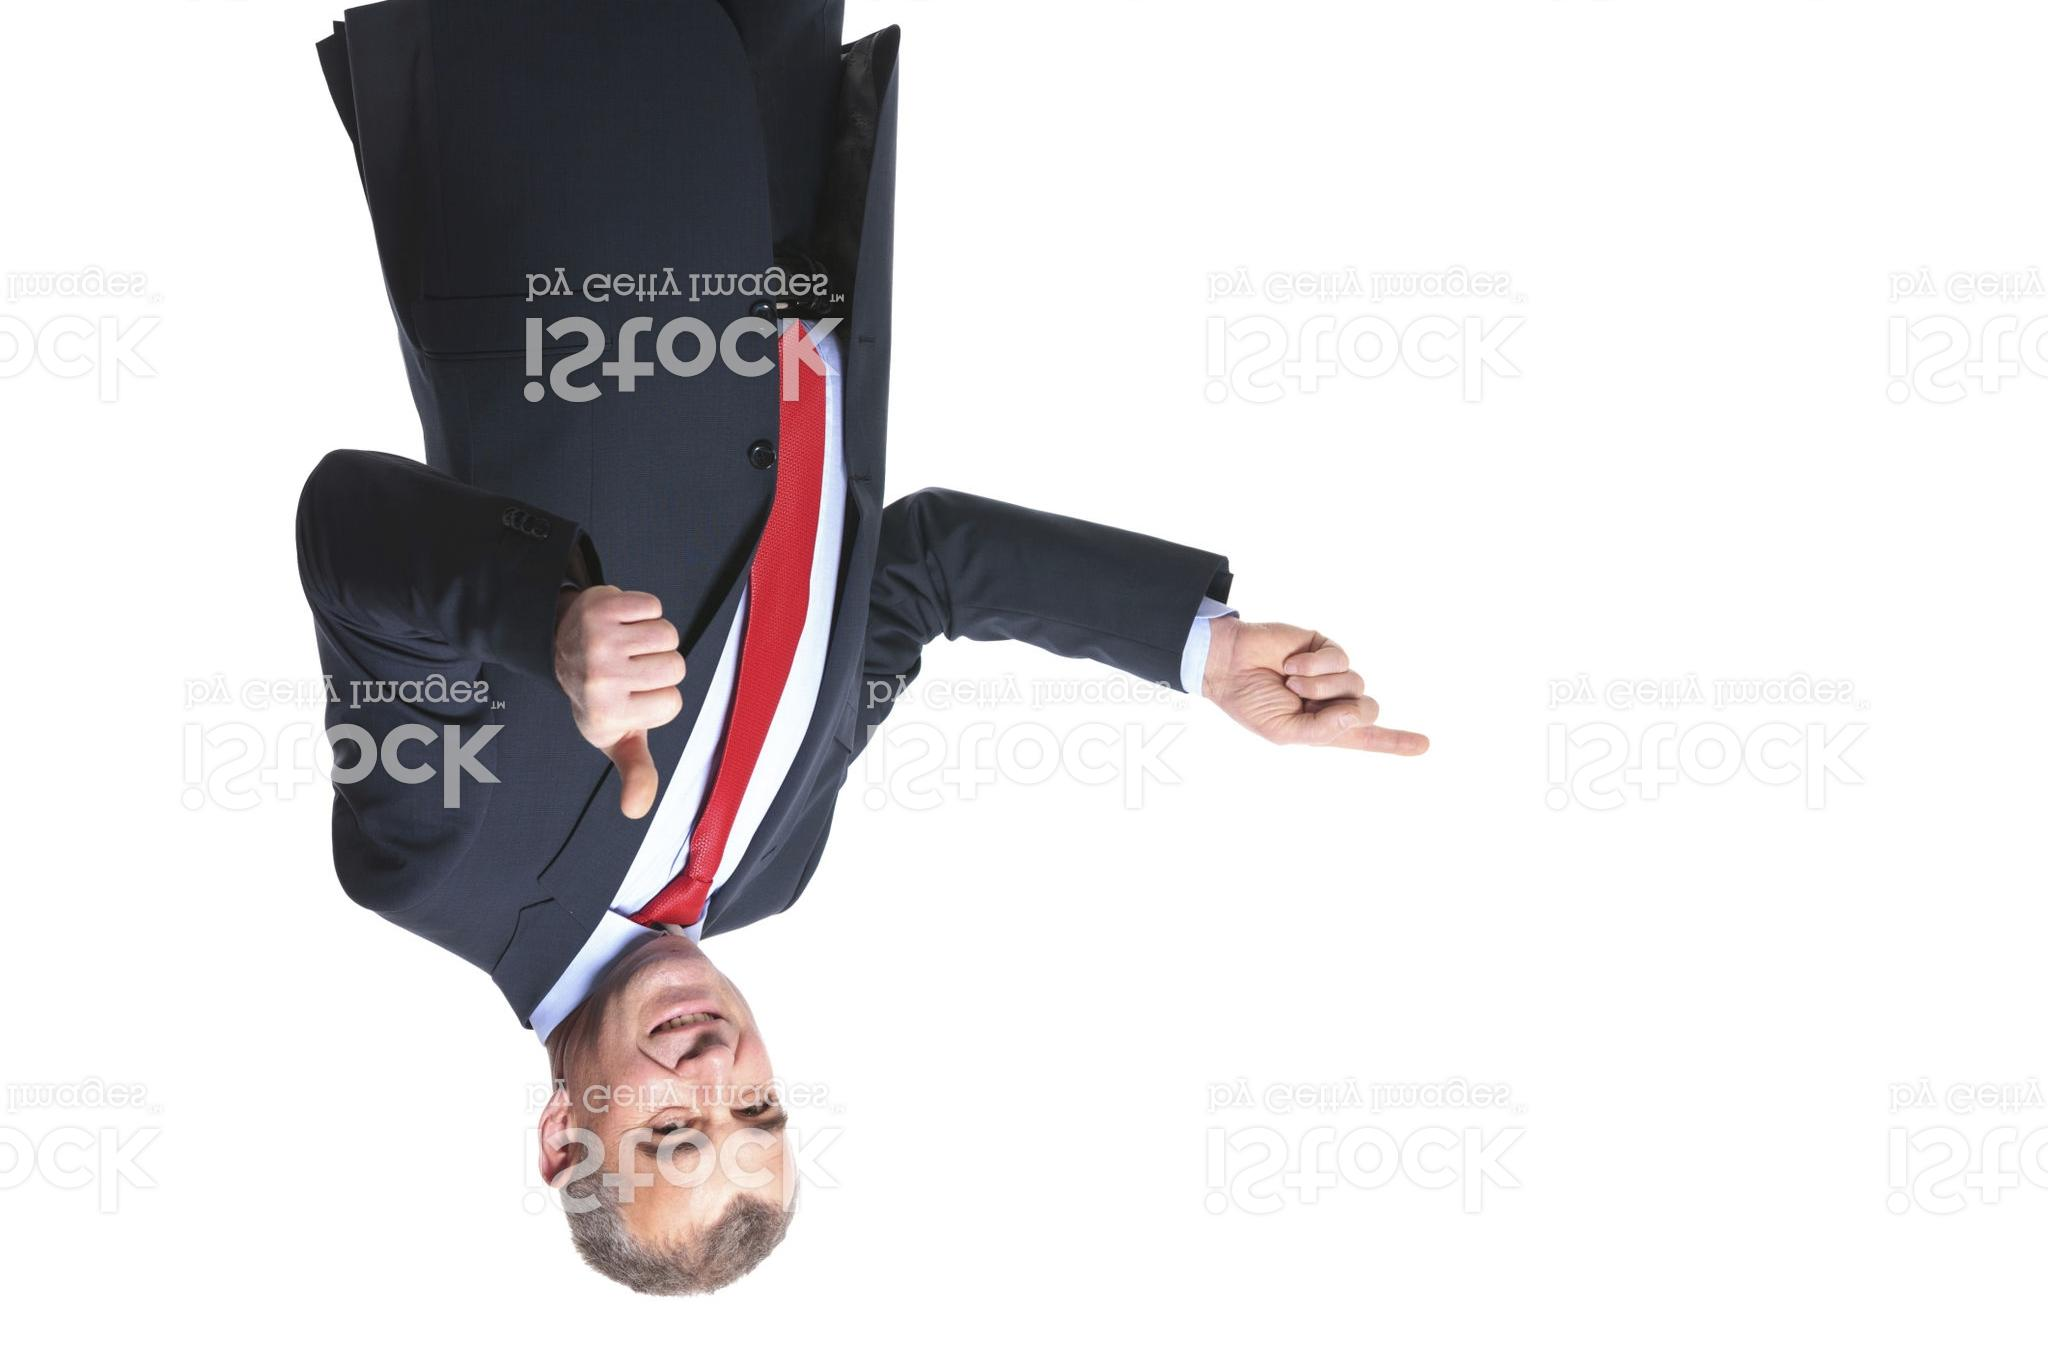thumbsdown: (568, 579, 687, 822)
